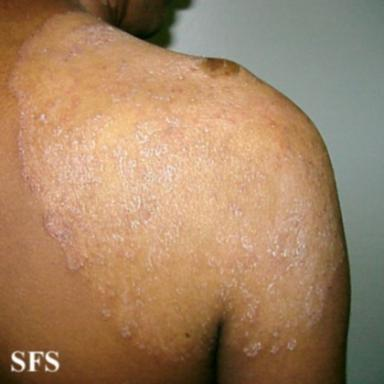Tinea-Corporis: (10, 10, 344, 363)
